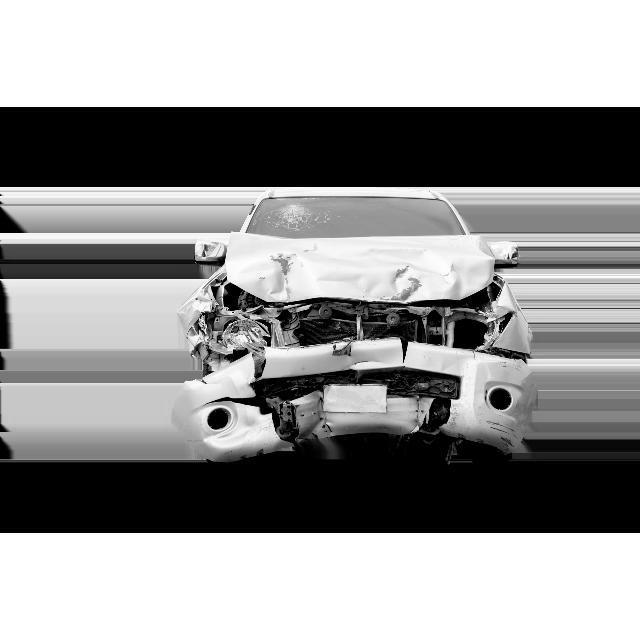Front-windscreen-damage: (260, 195, 352, 239)
Headlight-damage: (207, 302, 284, 354), (469, 305, 528, 358)
Sidemirror-Damage: (191, 239, 229, 269), (484, 243, 522, 269)
bonnet-dent: (242, 236, 491, 315)
front-bumper-dent: (207, 368, 529, 455)
